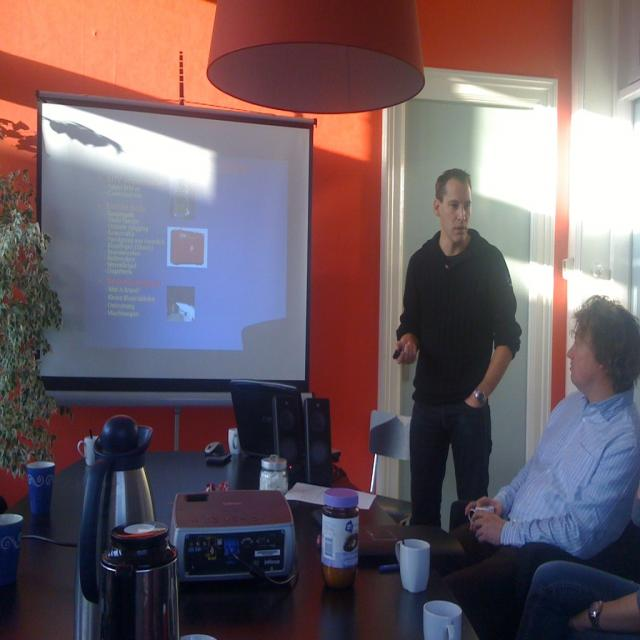chair: (368, 410, 412, 502)
desk: (0, 449, 479, 638)
person: (441, 296, 640, 639), (392, 168, 522, 532)
tv: (35, 88, 314, 396)
